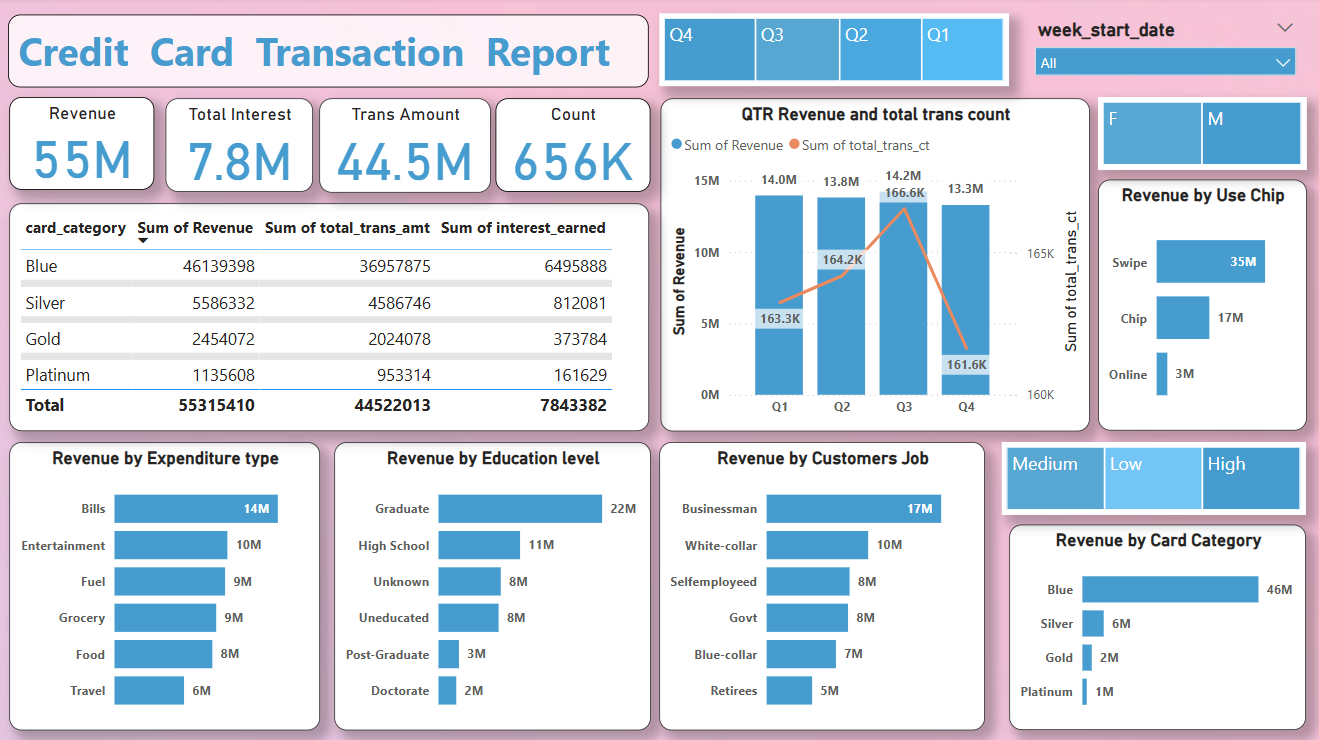

Layout of this report page (visuals, bound fields, positions):
{"tool":"powerbi","page":{"name":"CC Transaction","canvas":[1280,720],"ordinal":0},"visuals":[{"type":"textbox","box":[10,17.1,618.6,70],"z":0},{"type":"lineStackedColumnComboChart","title":"QTR Revenue and total trans count","fields":{"Category":["public cc_detail.qtr"],"Y":["Sum(public cc_detail.Revenue)"],"Y2":["Sum(public cc_detail.total_trans_ct)"]},"box":[640,97.3,414.7,321.3],"z":1000},{"type":"barChart","title":"Revenue by Expenditure type","fields":{"Y":["Sum(public cc_detail.Revenue)"],"Category":["public cc_detail.exp_type"]},"box":[10.7,429.3,300,278.7],"z":2000},{"type":"barChart","title":"Revenue by Education level","fields":{"Y":["Sum(public cc_detail.Revenue)"],"Category":["public cust_detail.education_level"]},"box":[324,429.3,305.3,278.7],"z":3000},{"type":"barChart","title":"Revenue by Customers Job","fields":{"Y":["Sum(public cc_detail.Revenue)"],"Category":["public cust_detail.customer_job"]},"box":[638.7,429.3,314.7,278.7],"z":4000},{"type":"barChart","title":"Revenue by Use Chip","fields":{"Y":["Sum(public cc_detail.Revenue)"],"Category":["public cc_detail.use_chip"]},"box":[1061.3,176,201.3,242.7],"z":5000},{"type":"barChart","title":"Revenue by Card Category","fields":{"Y":["Sum(public cc_detail.Revenue)"],"Category":["public cc_detail.card_category"]},"box":[976,509.3,286.7,198.7],"z":6000},{"type":"tableEx","fields":{"Values":["public cc_detail.card_category","Sum(public cc_detail.Revenue)","Sum(public cc_detail.total_trans_amt)","Sum(public cc_detail.interest_earned)"]},"box":[10.7,198.7,617.3,220],"z":7000},{"type":"card","title":"Revenue","fields":{"Values":["Sum(public cc_detail.Revenue)"]},"box":[10.7,96,140,89.3],"z":8000},{"type":"card","title":"Total Interest","fields":{"Values":["Sum(public cc_detail.interest_earned)"]},"box":[161.3,97.3,142.7,90.7],"z":9000},{"type":"card","title":"Trans Amount","fields":{"Values":["Sum(public cc_detail.total_trans_amt)"]},"box":[310,97.1,165.7,91.4],"z":10000},{"type":"card","title":"Count","fields":{"Values":["Sum(public cc_detail.total_trans_ct)"]},"box":[480,97.3,149.3,90.7],"z":11000},{"type":"slicer","fields":{"Values":["public cc_detail.week_start_date"]},"box":[990.7,16,272,70.7],"z":12000},{"type":"treemap","fields":{"Group":["public cc_detail.qtr"],"Values":["Avg(public cc_detail.client_num)"]},"box":[638.7,16,337.3,70.7],"z":13000},{"type":"treemap","fields":{"Group":["public cust_detail.gender"],"Values":["Avg(public cc_detail.client_num)"]},"box":[1061.3,96,201.3,70.7],"z":14000},{"type":"treemap","fields":{"Group":["public cust_detail.IncomeGroup"],"Values":["Avg(public cc_detail.client_num)"]},"box":[969.3,429.3,293.3,70.7],"z":15000}]}

Visuals, with their boxes in screenshot pixels (x1, y1, x2, y2), scaled from the page's 1280x720 canvas onto the 1319x740 screenshot:
textbox: 10, 18, 648, 90
"QTR Revenue and total trans count" lineStackedColumnComboChart: 660, 100, 1087, 430
"Revenue by Expenditure type" barChart: 11, 441, 320, 728
"Revenue by Education level" barChart: 334, 441, 648, 728
"Revenue by Customers Job" barChart: 658, 441, 982, 728
"Revenue by Use Chip" barChart: 1094, 181, 1301, 430
"Revenue by Card Category" barChart: 1006, 523, 1301, 728
tableEx - public cc_detail.card_category x Sum(public cc_detail.Revenue): 11, 204, 647, 430
"Revenue" card: 11, 99, 155, 190
"Total Interest" card: 166, 100, 313, 193
"Trans Amount" card: 319, 100, 490, 194
"Count" card: 495, 100, 648, 193
slicer - public cc_detail.week_start_date: 1021, 16, 1301, 89
treemap - public cc_detail.qtr x Avg(public cc_detail.client_num): 658, 16, 1006, 89
treemap - public cust_detail.gender x Avg(public cc_detail.client_num): 1094, 99, 1301, 171
treemap - public cust_detail.IncomeGroup x Avg(public cc_detail.client_num): 999, 441, 1301, 514
